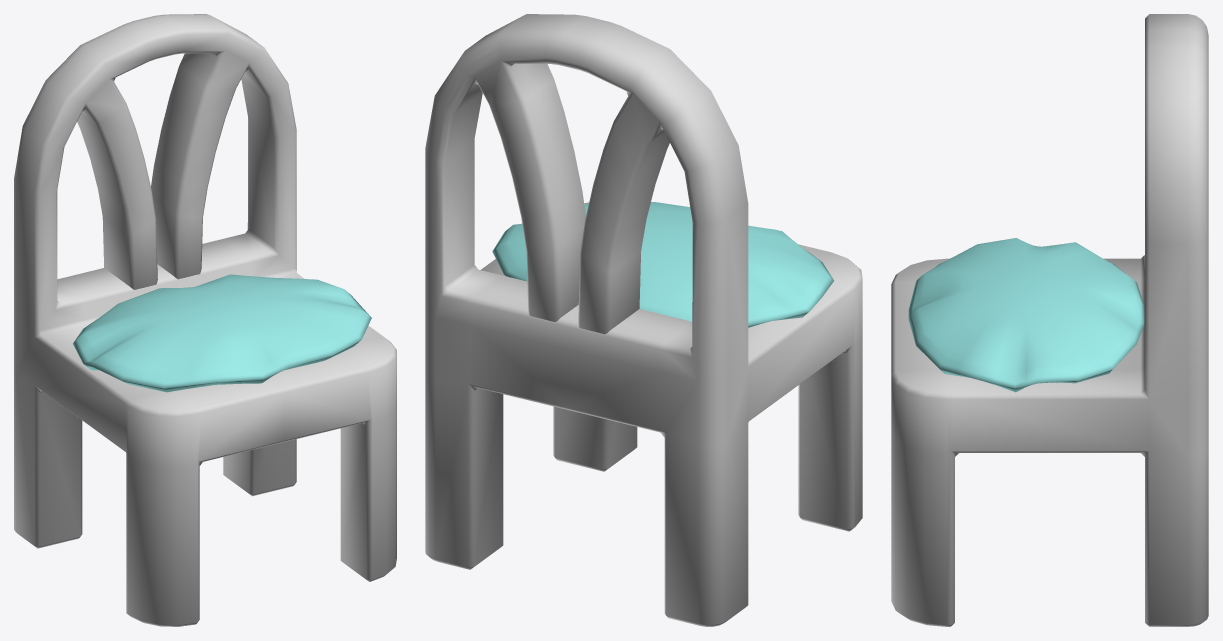
Rendered from basic_chair.glb.
The picture shows the model from 3 angles, left to right: view 1: azimuth 30°, elevation 25°; view 2: azimuth 150°, elevation 25°; view 3: azimuth 270°, elevation 25°; orthographic projection. The views are drawn at different scales.
Visible parts, largest first — view 1: frame, cushion; view 2: frame, cushion; view 3: frame, cushion.
Part boxes in pixels (x1=…): frame: x1=14, y1=14, x2=396, y2=626; cushion: x1=73, y1=274, x2=371, y2=392; frame: x1=425, y1=14, x2=862, y2=626; cushion: x1=492, y1=202, x2=833, y2=327; frame: x1=891, y1=14, x2=1208, y2=626; cushion: x1=908, y1=238, x2=1144, y2=392.
Size of the model in its own units: 1.31 by 2.27 by 1.24.
